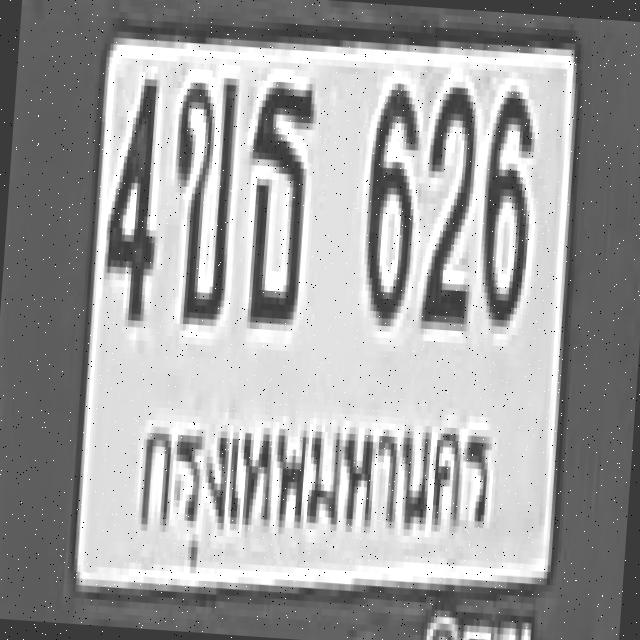11KhorKhai: (162, 68, 236, 320)
2: (415, 76, 481, 320)
33ThorThong: (238, 73, 316, 318)
4: (98, 67, 164, 311)
6: (358, 72, 420, 316), (473, 80, 535, 318)
Bangkok: (127, 386, 514, 600)
